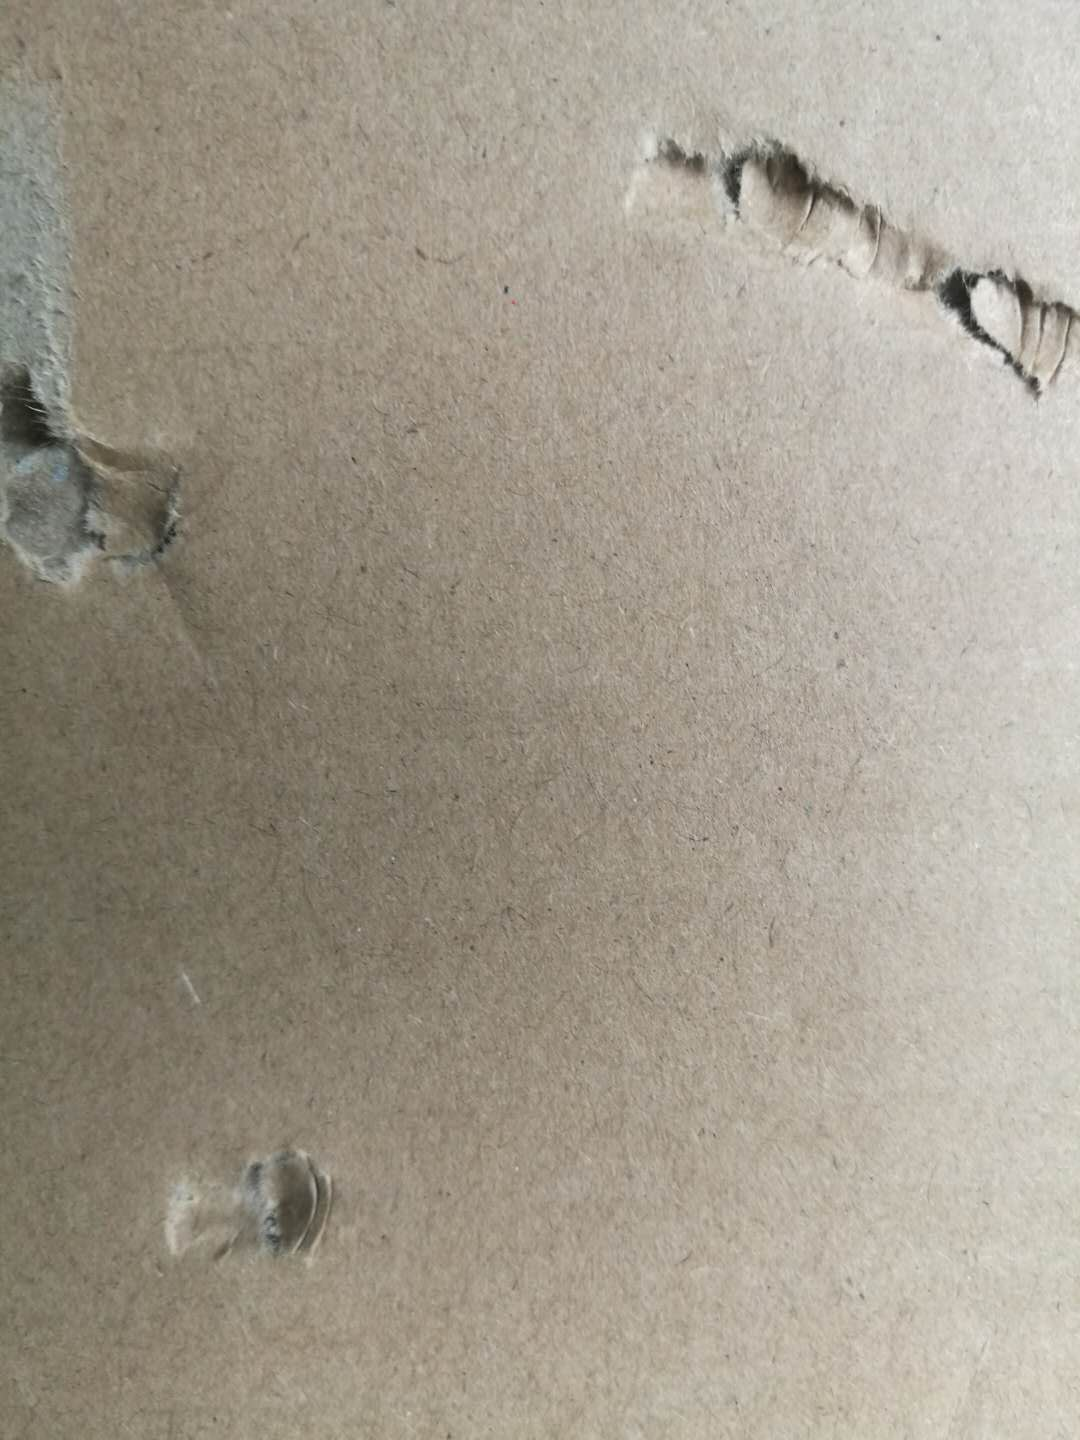defect: (600, 82, 1080, 422), (2, 48, 222, 702), (142, 1113, 360, 1285)
